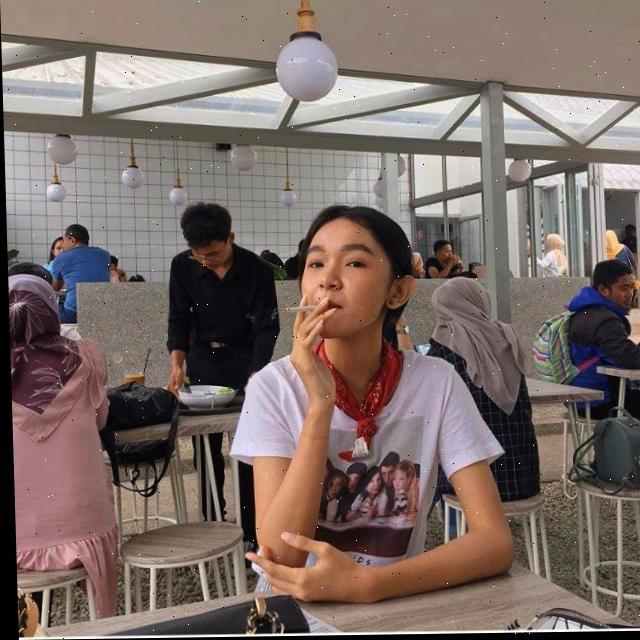cigarette: (281, 307, 315, 314)
